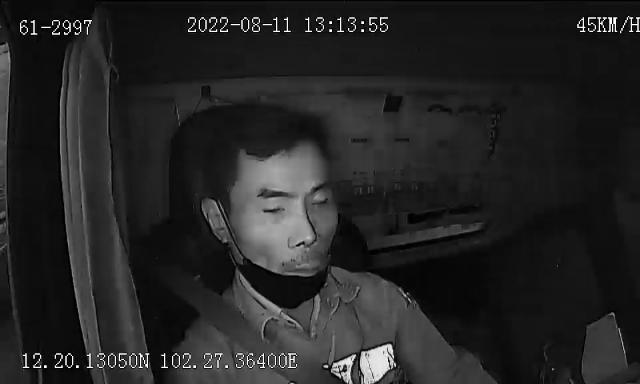SafeDriving: (418, 95, 466, 124)
Seatbelt: (178, 278, 344, 384)
